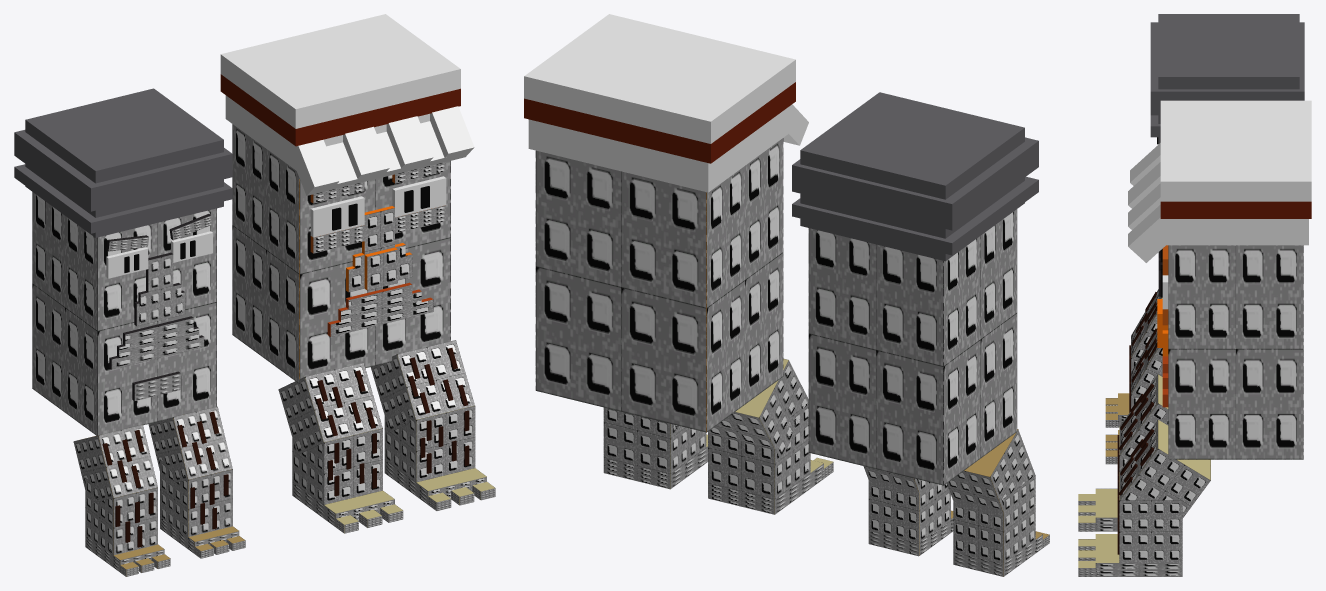
File: Garama.obj
The picture shows the model from 3 angles, left to right: view 1: azimuth 30°, elevation 25°; view 2: azimuth 150°, elevation 25°; view 3: azimuth 270°, elevation 25°; orthographic projection. The views are drawn at different scales.
Visible parts, largest first — view 1: Part221, Part214, Part95, Part217, Part100, Part98, Part99, Part222, Part101, Part197, Part172, Union9 (+34 smaller); view 2: Part216, Part97, Part221, Part217, Part100, Part98, Part99, Part223, Part222, Part101, Part193, Part166 (+17 smaller); view 3: Part215, Part221, Part100, Part165, Part223, Part99, Part173, Part222, Part140, Part229, Part171, Part172 (+15 smaller).
Boxes of the visible parts, bbox=[...] form: Part221: bbox=[220, 14, 460, 128]; Part214: bbox=[300, 161, 450, 378]; Part95: bbox=[97, 208, 216, 435]; Part217: bbox=[232, 124, 299, 383]; Part100: bbox=[25, 88, 223, 237]; Part98: bbox=[32, 192, 97, 435]; Part99: bbox=[14, 130, 232, 211]; Part222: bbox=[220, 74, 460, 146]; Part101: bbox=[14, 164, 232, 233]; Part197: bbox=[305, 362, 382, 442]; Part172: bbox=[397, 340, 474, 419]; Union9: bbox=[348, 208, 412, 292]; Part216: bbox=[536, 150, 706, 432]; Part97: bbox=[808, 228, 943, 485]; Part221: bbox=[524, 14, 795, 143]; Part217: bbox=[707, 138, 783, 431]; Part100: bbox=[800, 92, 1024, 261]; Part98: bbox=[943, 209, 1017, 485]; Part99: bbox=[792, 137, 1038, 230]; Part223: bbox=[528, 110, 789, 192]; Part222: bbox=[524, 82, 795, 163]; Part101: bbox=[792, 176, 1038, 255]; Part193: bbox=[708, 433, 774, 498]; Part166: bbox=[604, 407, 670, 473]; Part215: bbox=[1168, 245, 1303, 459]; Part221: bbox=[1160, 100, 1311, 201]; Part100: bbox=[1158, 14, 1299, 144]; Part165: bbox=[1119, 500, 1182, 562]; Part223: bbox=[1164, 219, 1308, 245]; Part99: bbox=[1150, 22, 1304, 115]; Part173: bbox=[1120, 448, 1210, 525]; Part222: bbox=[1160, 201, 1311, 218]; Part140: bbox=[1095, 563, 1182, 576]; Part229: bbox=[1128, 204, 1170, 253]; Part171: bbox=[1120, 420, 1210, 499]; Part172: bbox=[1119, 420, 1157, 499].
Bounding box in the file's own units: 46.18 × 47.03 × 24.8.
16 materials, 2 textured.
